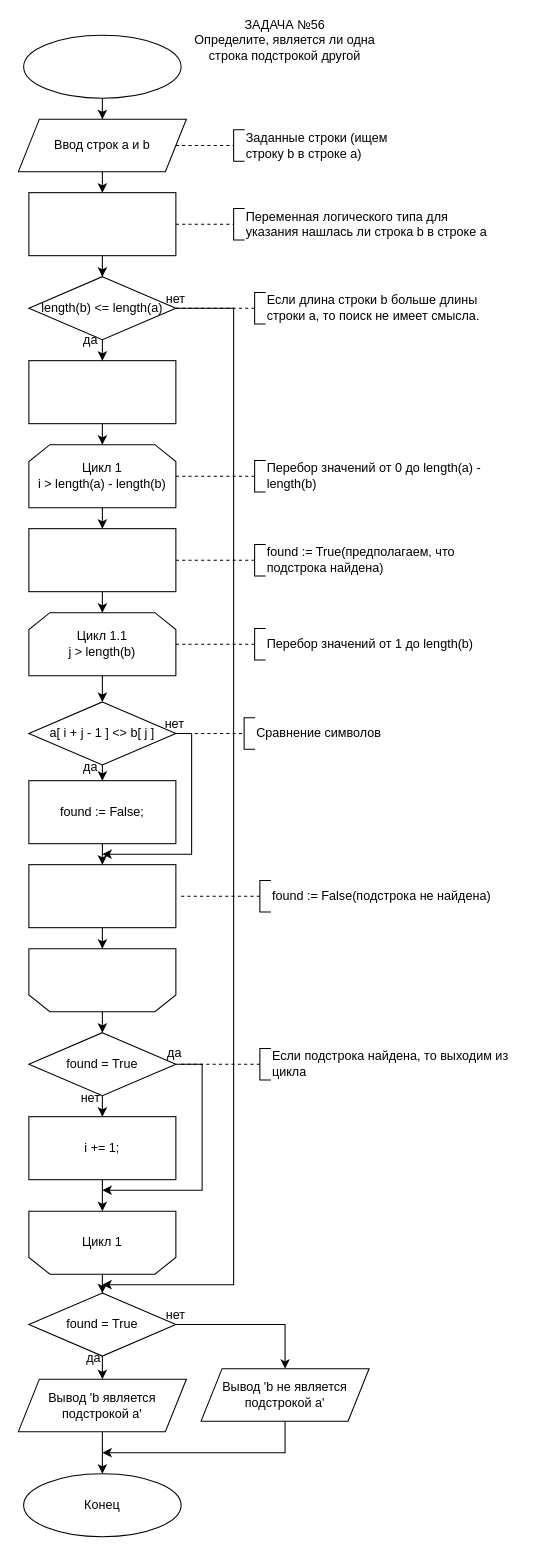
Image size: 541x1555. Some labels were removed from this diagram. The box of each missing label's shape, as (x1, y1, x2, y2) in pixels:
found := False: (28, 192, 176, 256)
found := True; j := 1;: (28, 528, 176, 592)
i := 0;: (28, 360, 176, 424)
j += 1;: (28, 864, 176, 928)
Начало: (23, 34, 181, 98)
Цикл 1.1: (28, 948, 176, 1012)
